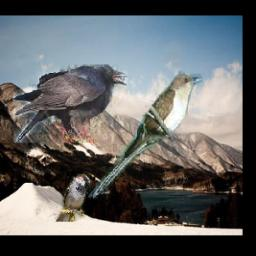Crow: (14, 65, 128, 143)
Cuckoo: (89, 72, 205, 204)
Sparrow: (56, 174, 90, 222)
